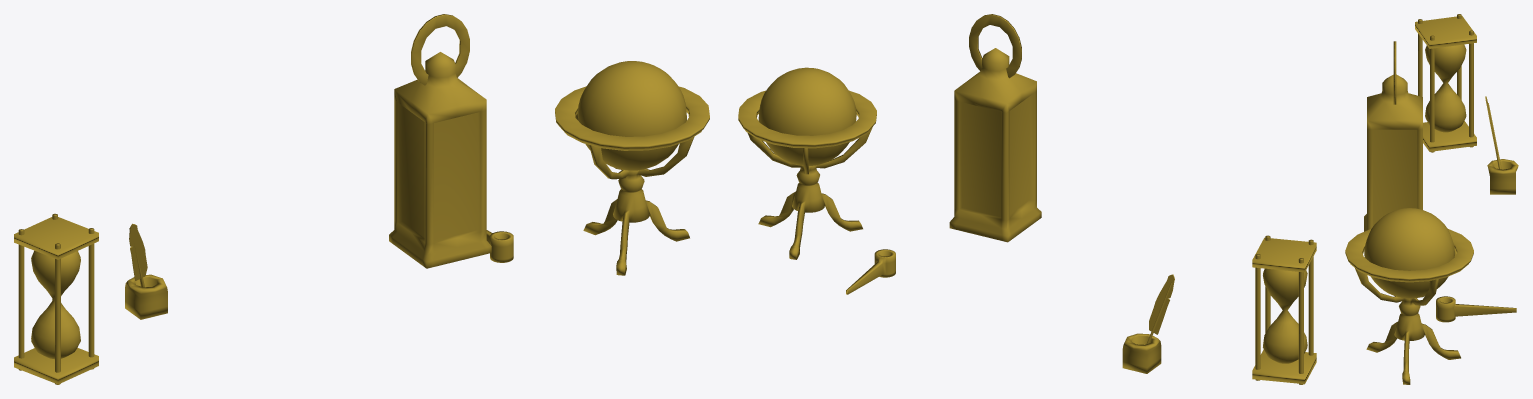
File: Tools.fbx
3 views of the same model, side by side, from view 1: azimuth 30°, elevation 25°; view 2: azimuth 150°, elevation 25°; view 3: azimuth 270°, elevation 25° (orthographic). The views are drawn at different scales.
Visible parts, largest first — view 1: OilLantern, Globe, HourGlass, FeatherPenandInk, Pipe; view 2: OilLantern, Globe, HourGlass, FeatherPenandInk, Pipe; view 3: Globe, OilLantern, HourGlass, FeatherPenandInk, Pipe.
Boxes of the visible parts, x1=… form: OilLantern: x1=389, y1=14, x2=491, y2=268; Globe: x1=555, y1=61, x2=709, y2=275; HourGlass: x1=14, y1=213, x2=98, y2=384; FeatherPenandInk: x1=125, y1=223, x2=167, y2=319; Pipe: x1=486, y1=230, x2=513, y2=262; OilLantern: x1=949, y1=14, x2=1041, y2=242; Globe: x1=738, y1=67, x2=876, y2=259; HourGlass: x1=1252, y1=235, x2=1316, y2=384; FeatherPenandInk: x1=1122, y1=274, x2=1174, y2=373; Pipe: x1=846, y1=249, x2=895, y2=294; Globe: x1=1345, y1=208, x2=1473, y2=384; OilLantern: x1=1364, y1=41, x2=1422, y2=231; HourGlass: x1=1415, y1=14, x2=1476, y2=152; FeatherPenandInk: x1=1485, y1=96, x2=1518, y2=194; Pipe: x1=1436, y1=296, x2=1516, y2=322.
Bounding box in the file's own units: 1.27 × 0.5373 × 0.3529.
